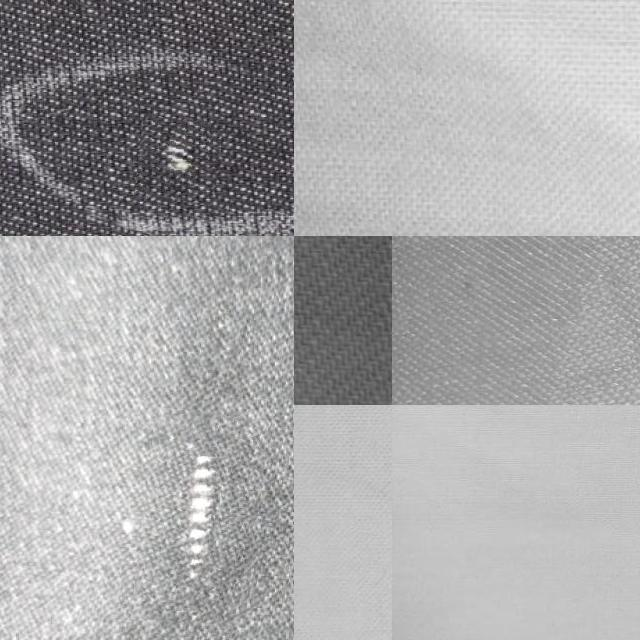Thread_other: (137, 408, 263, 626), (137, 116, 221, 204)
